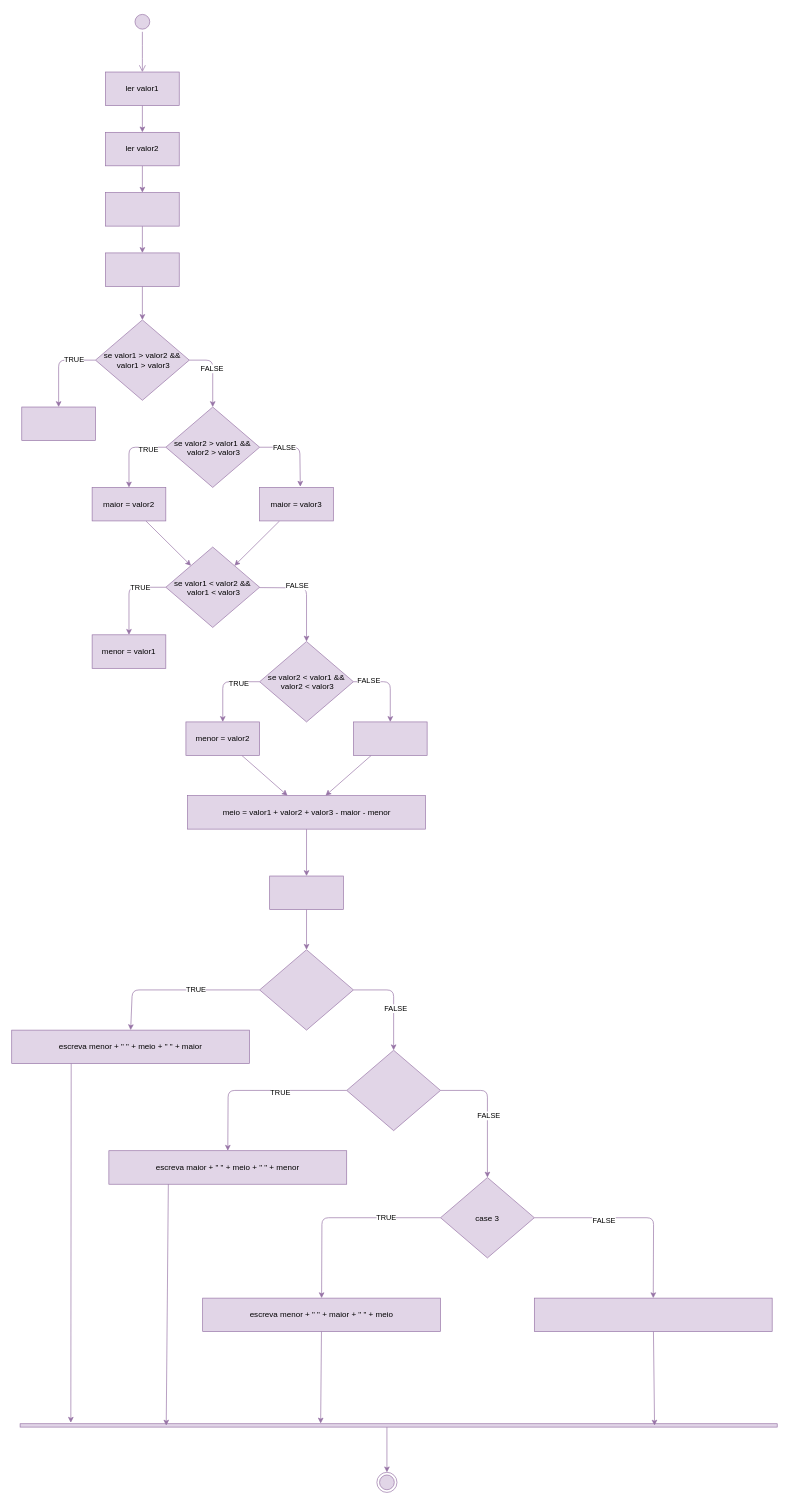
The diagram is 789 pixels wide and 1504 high, and some of its shapes have lost their labels. Each missing label, with the centre of its shape:
"case 1" goes at (x=306, y=989).
"case 2" goes at (x=393, y=1090).
"escreva Opção Inválida!" goes at (x=653, y=1314).
"ler opcao" goes at (x=142, y=269).
"ler valor3" goes at (x=142, y=209).
"maior = valor1" goes at (x=58, y=423).
"menor = valor3" goes at (x=390, y=738).
"switch opcao" goes at (x=306, y=892).
